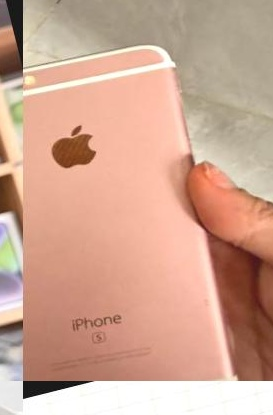scratch: (174, 145, 190, 173), (199, 295, 211, 308)
